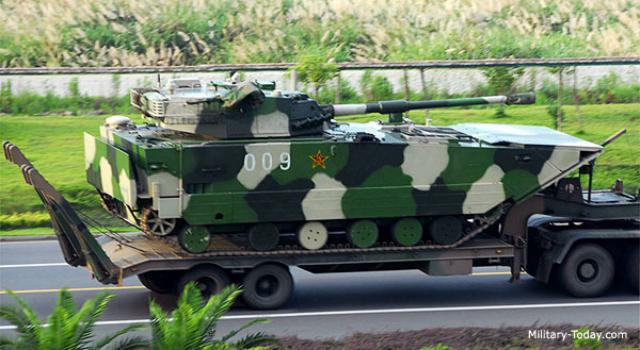tank: (83, 79, 602, 246)
